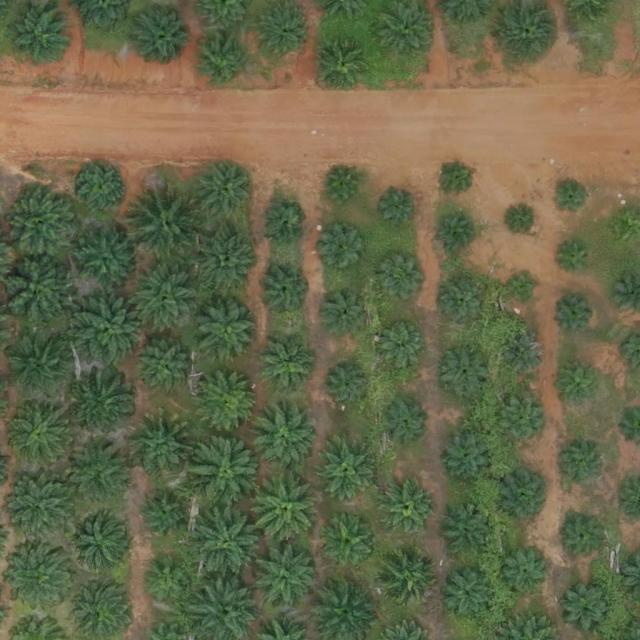Healthy: (4, 183, 82, 262), (72, 292, 150, 371), (129, 184, 207, 263), (126, 261, 204, 340), (190, 433, 268, 512), (190, 504, 268, 583), (248, 471, 326, 550), (2, 547, 72, 617), (9, 338, 72, 401), (69, 438, 132, 501), (194, 160, 257, 223), (10, 4, 72, 67), (134, 4, 196, 67), (10, 401, 72, 464), (75, 228, 138, 290), (77, 373, 139, 436), (134, 415, 196, 478), (67, 511, 129, 574), (197, 233, 259, 295), (197, 300, 259, 362), (198, 373, 260, 435), (255, 408, 317, 470), (314, 440, 376, 502), (378, 550, 440, 612), (256, 545, 318, 607), (197, 35, 252, 90), (259, 6, 314, 61), (318, 37, 373, 92), (139, 342, 194, 397), (261, 339, 316, 394), (441, 432, 496, 487), (559, 580, 614, 635), (442, 568, 497, 623), (322, 518, 377, 573), (382, 483, 436, 538), (441, 506, 495, 561), (80, 163, 127, 211), (141, 494, 188, 541), (503, 552, 550, 599)
Small: (257, 264, 312, 319), (439, 344, 494, 399), (498, 469, 553, 524), (379, 320, 426, 368), (326, 362, 373, 410), (381, 397, 428, 445), (260, 201, 307, 249), (321, 227, 368, 274), (379, 254, 426, 301), (441, 281, 488, 328), (322, 288, 369, 335), (145, 558, 192, 605), (562, 516, 609, 563), (554, 444, 601, 491), (498, 397, 545, 444), (502, 334, 549, 381), (437, 214, 477, 254), (560, 364, 600, 404), (324, 168, 363, 208), (381, 189, 420, 229), (437, 158, 476, 198), (555, 240, 594, 280), (552, 178, 591, 217), (555, 295, 594, 334), (509, 206, 540, 238), (508, 272, 539, 304)
